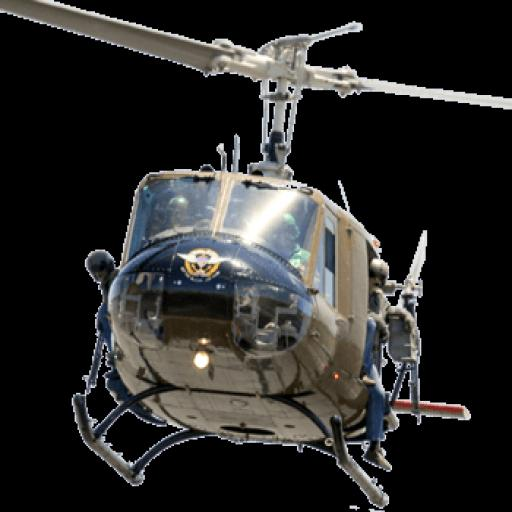helicopter: (8, 3, 497, 500)
